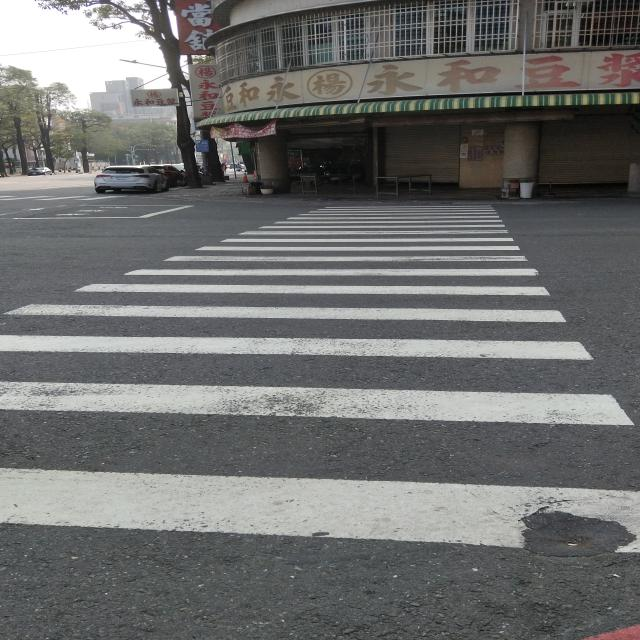zebra crossing: (0, 203, 640, 552), (0, 195, 130, 201)
